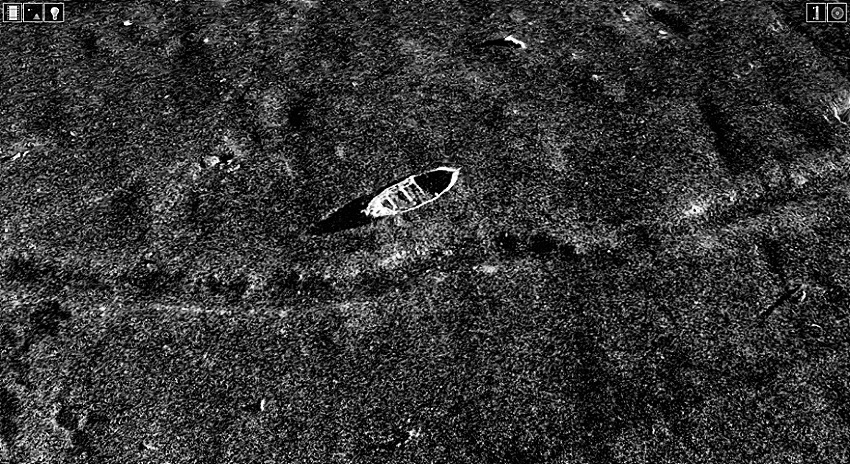ship: (356, 162, 464, 219)
